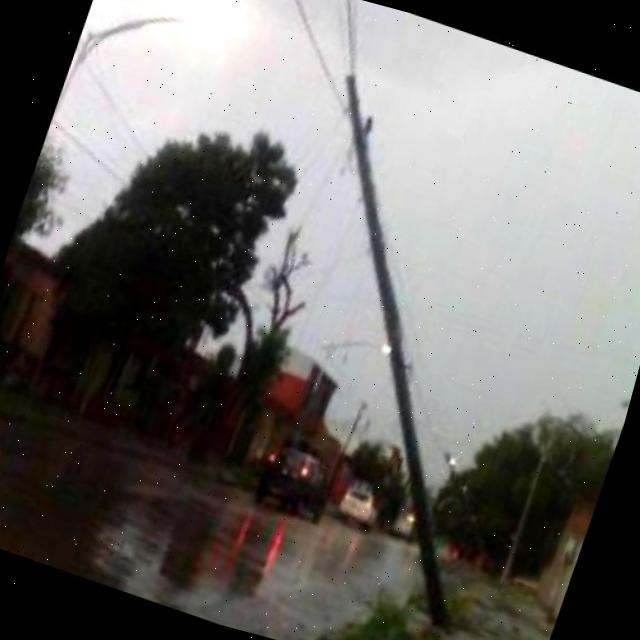Broken Pole: (343, 71, 450, 621)
